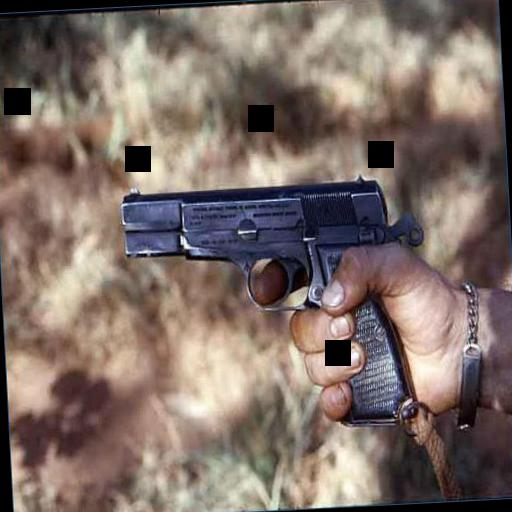Handgun: (117, 168, 429, 442)
